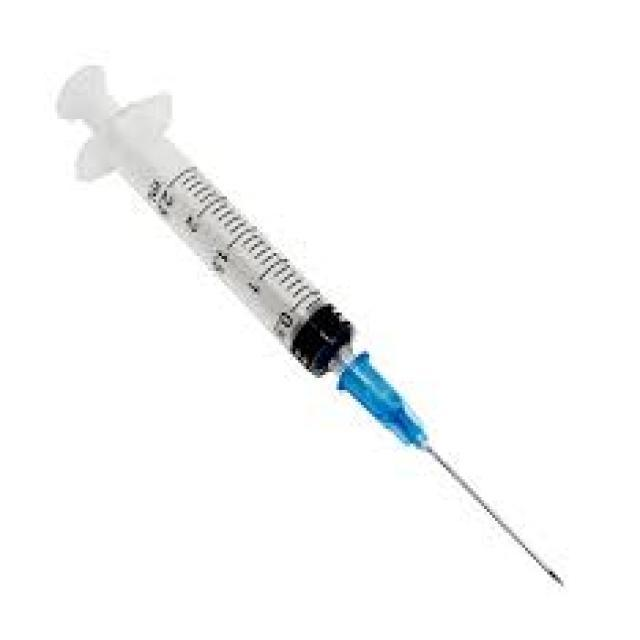syringe: (36, 48, 604, 631)
